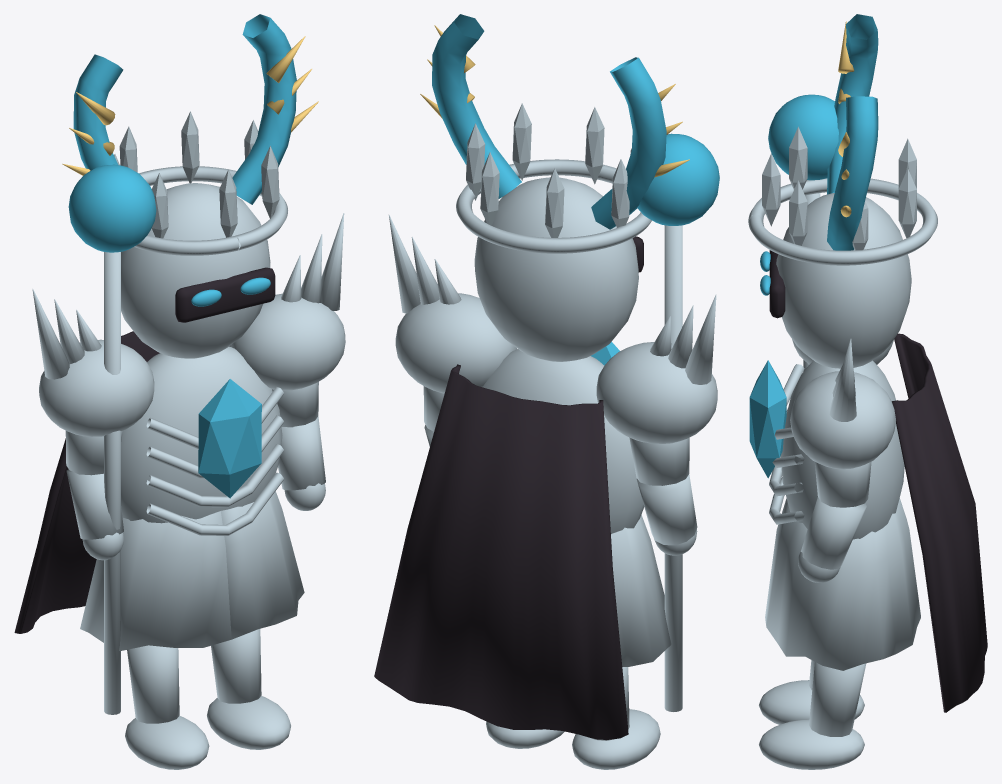
The model's file is enemy-6-refined-v15.fbx.
3 renders of one model, left to right at view 1: azimuth 30°, elevation 25°; view 2: azimuth 150°, elevation 25°; view 3: azimuth 270°, elevation 25°, orthographic. The views are drawn at different scales.
Visible parts, largest first — view 1: Tabard.004, Helmet.004, ArmoredTorso.004, Shoulder.011, Shoulder.010, TatteredCape.004, MageStaff.001, StaffOrb.001, BossCore.002, CurvedBossHorn.005, RoyalCrown.002, Shin.010 (+24 smaller); view 2: TatteredCape.004, Helmet.004, Shoulder.010, Shoulder.011, ArmoredTorso.004, Tabard.004, CurvedBossHorn.005, CurvedBossHorn.004, StaffOrb.001, RoyalCrown.002, MageStaff.001, Foot.012 (+14 smaller); view 3: TatteredCape.004, Tabard.004, Helmet.004, Shoulder.011, ArmoredTorso.004, RoyalCrown.002, CurvedBossHorn.005, StaffOrb.001, Foot.013, CurvedBossHorn.004, Shin.011, BossCore.002 (+15 smaller).
Part boxes in pixels (bbox=[...]): Tabard.004: bbox=[80, 491, 304, 651]; Helmet.004: bbox=[121, 183, 270, 358]; ArmoredTorso.004: bbox=[121, 346, 282, 523]; Shoulder.011: bbox=[230, 293, 345, 390]; Shoulder.010: bbox=[39, 339, 154, 436]; TatteredCape.004: bbox=[14, 331, 230, 633]; MageStaff.001: bbox=[104, 252, 120, 714]; StaffOrb.001: bbox=[68, 164, 156, 252]; BossCore.002: bbox=[198, 379, 261, 498]; CurvedBossHorn.005: bbox=[232, 14, 296, 204]; RoyalCrown.002: bbox=[134, 166, 287, 255]; Shin.010: bbox=[127, 645, 179, 723]; TatteredCape.004: bbox=[374, 364, 628, 739]; Helmet.004: bbox=[474, 177, 638, 361]; Shoulder.010: bbox=[596, 342, 717, 443]; Shoulder.011: bbox=[395, 293, 516, 393]; ArmoredTorso.004: bbox=[482, 349, 644, 533]; Tabard.004: bbox=[611, 514, 671, 666]; CurvedBossHorn.005: bbox=[432, 14, 521, 198]; CurvedBossHorn.004: bbox=[591, 57, 666, 229]; StaffOrb.001: bbox=[637, 133, 719, 225]; RoyalCrown.002: bbox=[456, 159, 651, 253]; MageStaff.001: bbox=[664, 225, 682, 711]; Foot.012: bbox=[572, 709, 660, 769]; TatteredCape.004: bbox=[892, 333, 987, 712]; Tabard.004: bbox=[765, 498, 920, 670]; Helmet.004: bbox=[776, 193, 911, 368]; Shoulder.011: bbox=[790, 371, 895, 469]; ArmoredTorso.004: bbox=[780, 360, 904, 539]; RoyalCrown.002: bbox=[748, 178, 937, 265]; CurvedBossHorn.005: bbox=[827, 96, 878, 250]; StaffOrb.001: bbox=[768, 94, 838, 180]; Foot.013: bbox=[759, 719, 864, 769]; CurvedBossHorn.004: bbox=[827, 14, 878, 194]; Shin.011: bbox=[809, 662, 866, 736]; BossCore.002: bbox=[749, 360, 786, 478].
Bounding box in the file's own units: 114 × 244 × 76.71.
